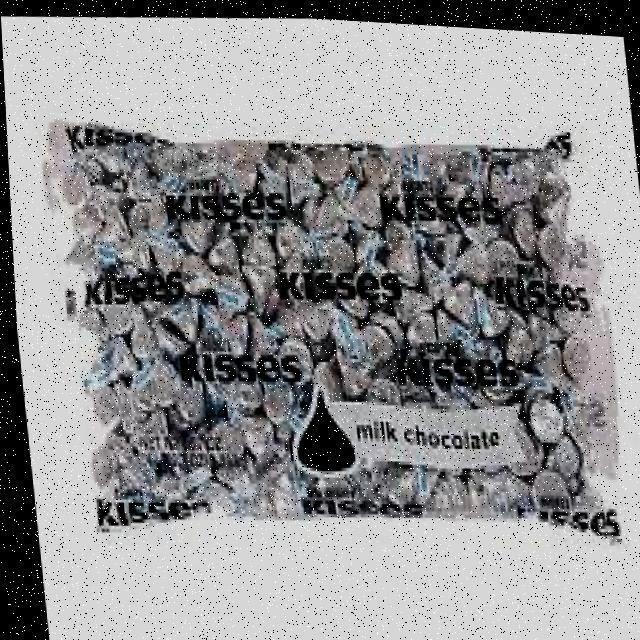kisses: (157, 288, 200, 343), (439, 275, 479, 331), (384, 226, 421, 283), (526, 338, 568, 388), (241, 259, 274, 318), (283, 162, 323, 209)
